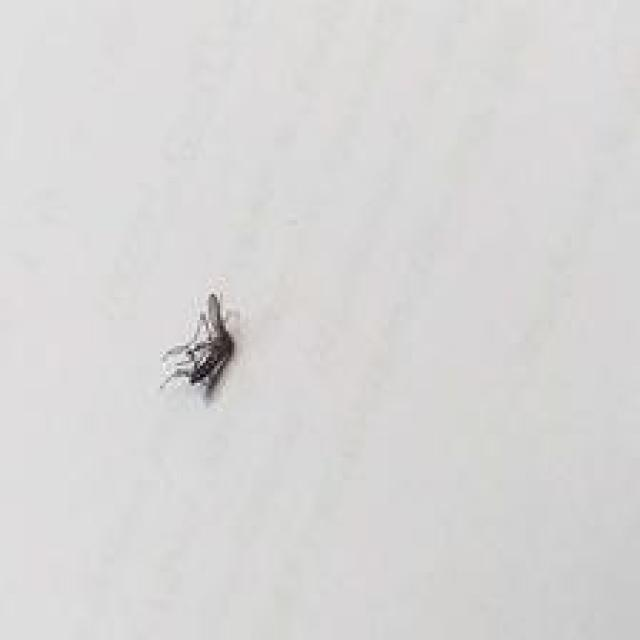Aedes albopictus: (158, 291, 236, 403)
